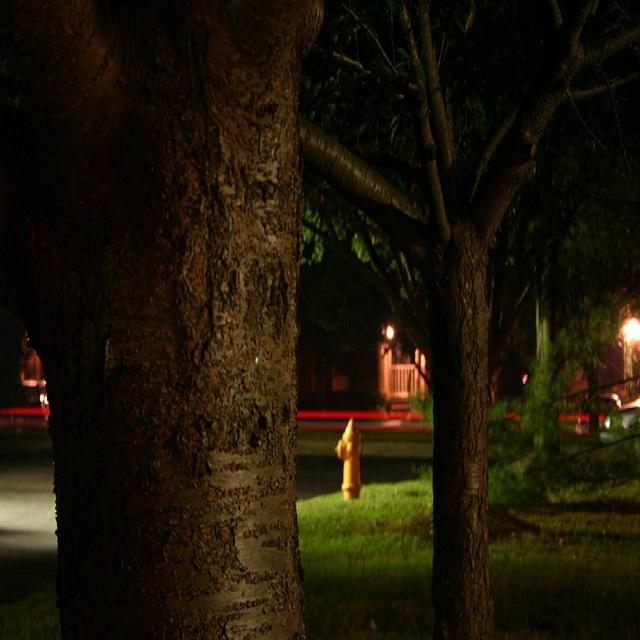Vehicle: (558, 391, 632, 435), (604, 402, 640, 430)
